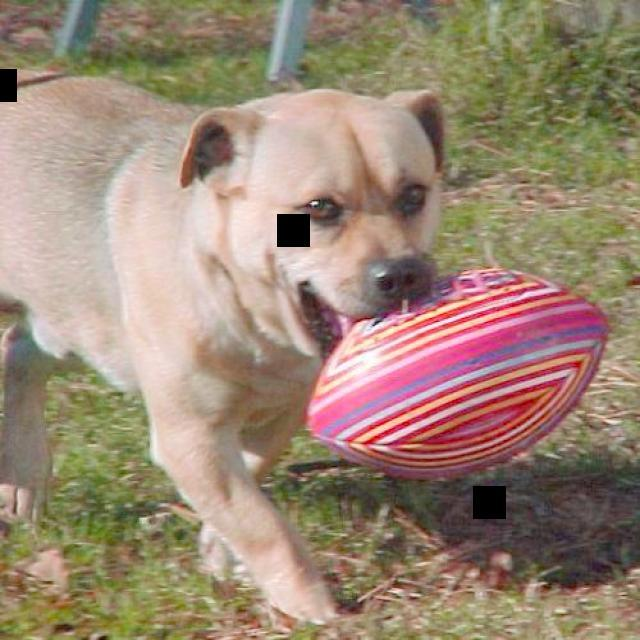adult_dog: (1, 61, 450, 628)
